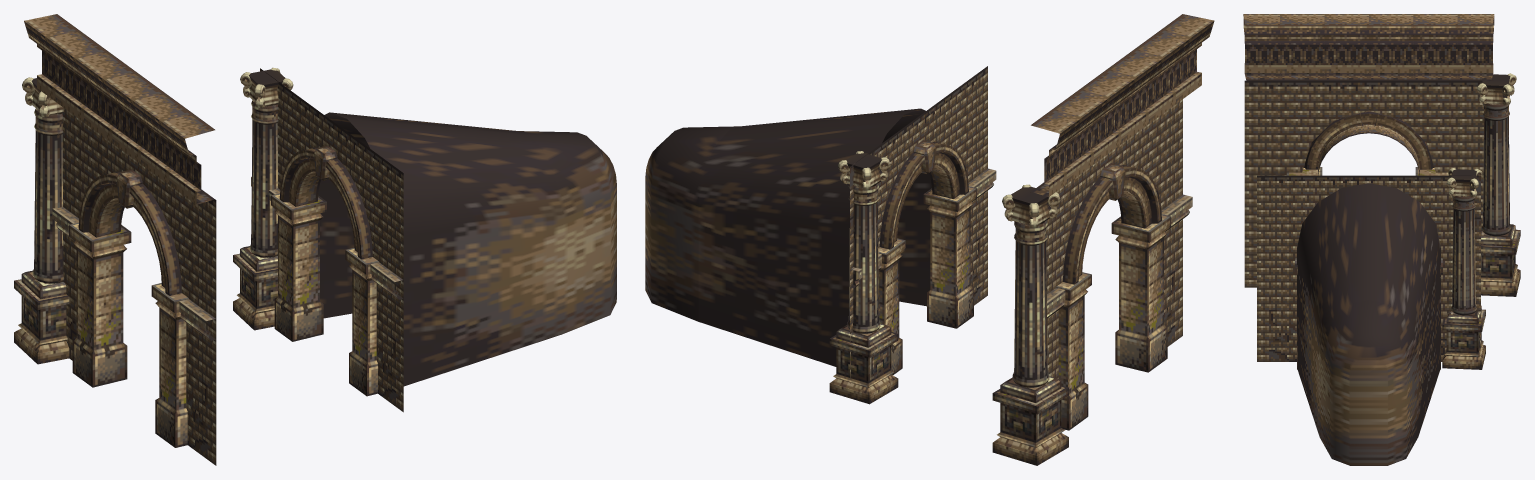
File: EnvBdgMD_Festival_A_Outdoor_A_Enter.FBX
3 renders of one model, left to right at view 1: azimuth 30°, elevation 25°; view 2: azimuth 150°, elevation 25°; view 3: azimuth 270°, elevation 25°, orthographic. The views are drawn at different scales.
Visible parts, largest first — view 1: EnvBdgMD_Festival_A_Outdoor_A_Enter; view 2: EnvBdgMD_Festival_A_Outdoor_A_Enter; view 3: EnvBdgMD_Festival_A_Outdoor_A_Enter.
Boxes of the visible parts, left/top/right/bottom form: EnvBdgMD_Festival_A_Outdoor_A_Enter: left=14, top=14, right=616, bottom=465; EnvBdgMD_Festival_A_Outdoor_A_Enter: left=645, top=14, right=1214, bottom=465; EnvBdgMD_Festival_A_Outdoor_A_Enter: left=1243, top=14, right=1520, bottom=465.
Size of the model in its own units: 1015 by 650 by 624.
